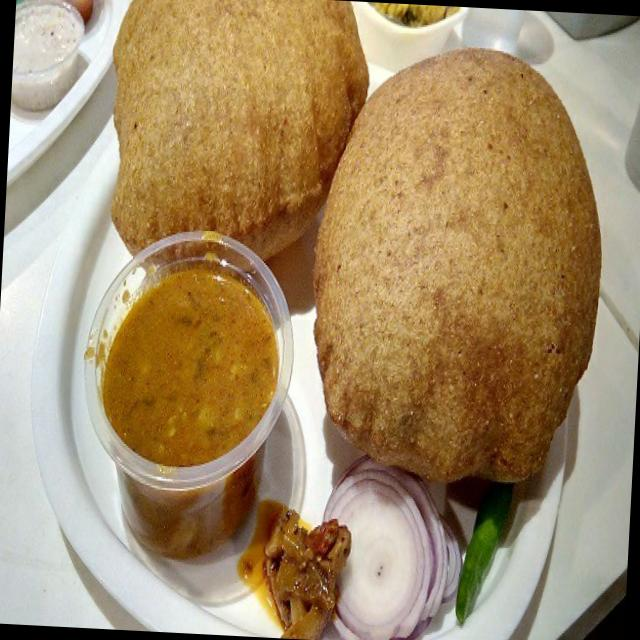Bhatura: (304, 38, 614, 485), (105, 0, 374, 267)
